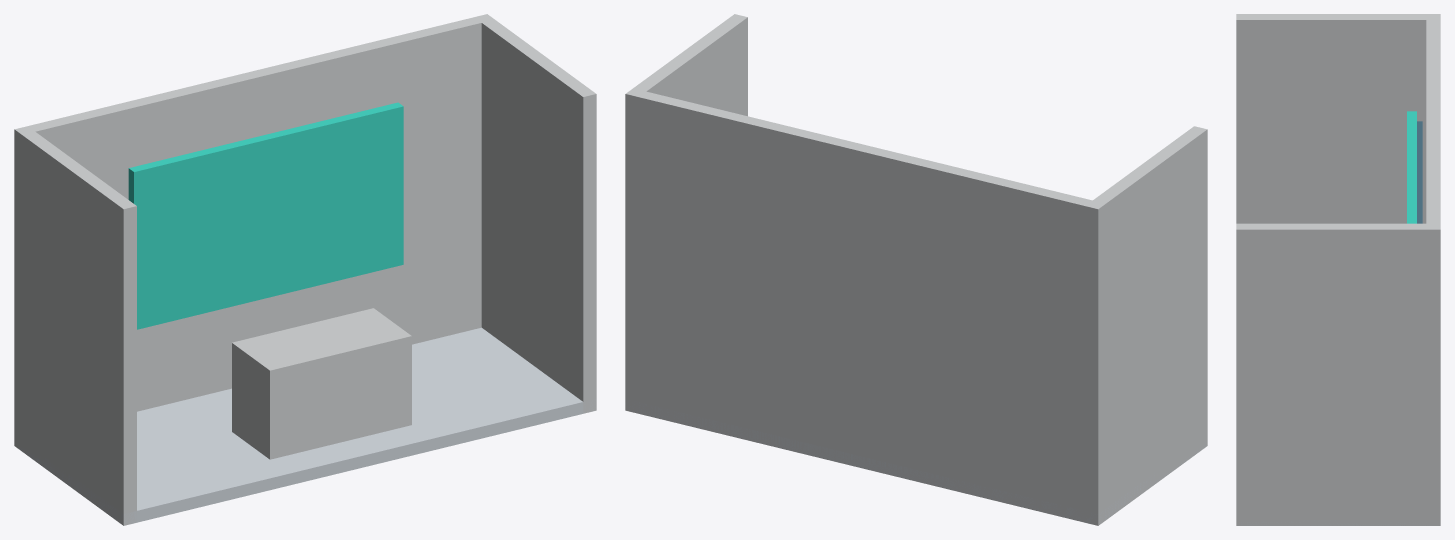
3 renders of one model, left to right at view 1: azimuth 30°, elevation 25°; view 2: azimuth 150°, elevation 25°; view 3: azimuth 270°, elevation 25°, orthographic. The views are drawn at different scales.
Parts seen in each view (by area): view 1: Exhibition Booth Concept; view 2: Exhibition Booth Concept; view 3: Exhibition Booth Concept.
Boxes of the visible parts, x1=… form: Exhibition Booth Concept: x1=14, y1=14, x2=596, y2=525; Exhibition Booth Concept: x1=625, y1=14, x2=1207, y2=525; Exhibition Booth Concept: x1=1236, y1=14, x2=1440, y2=525.
Bounding box in the file's own units: 5 × 3.2 × 2.
